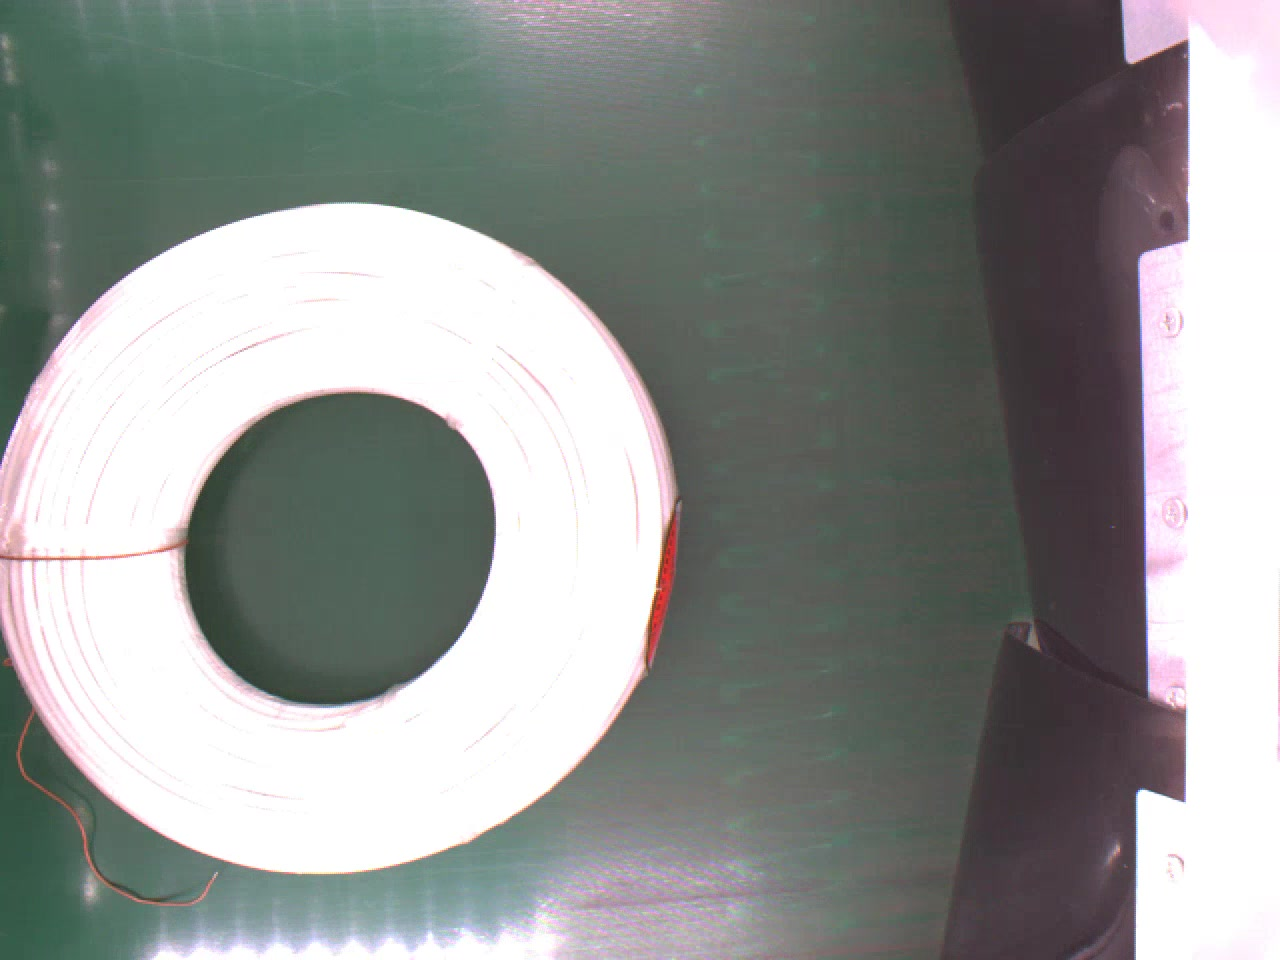white: (0, 197, 675, 879)
